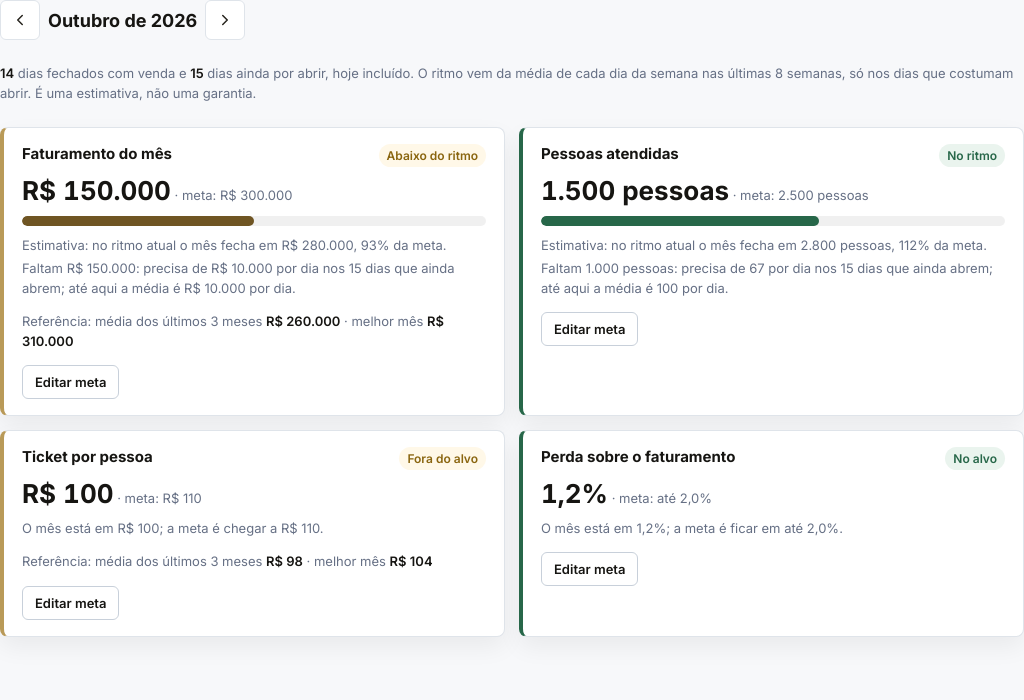
MetasPanel (busca, mes e gravacao) › falha ao gravar mostra o erro no editor, que continua aberto
Expected: the heading "outubro de 2026" is shown, [48, 10, 197, 30]
Click the button "Editar meta" below "Faturamento do mês": (71, 382) [22, 365, 120, 399]
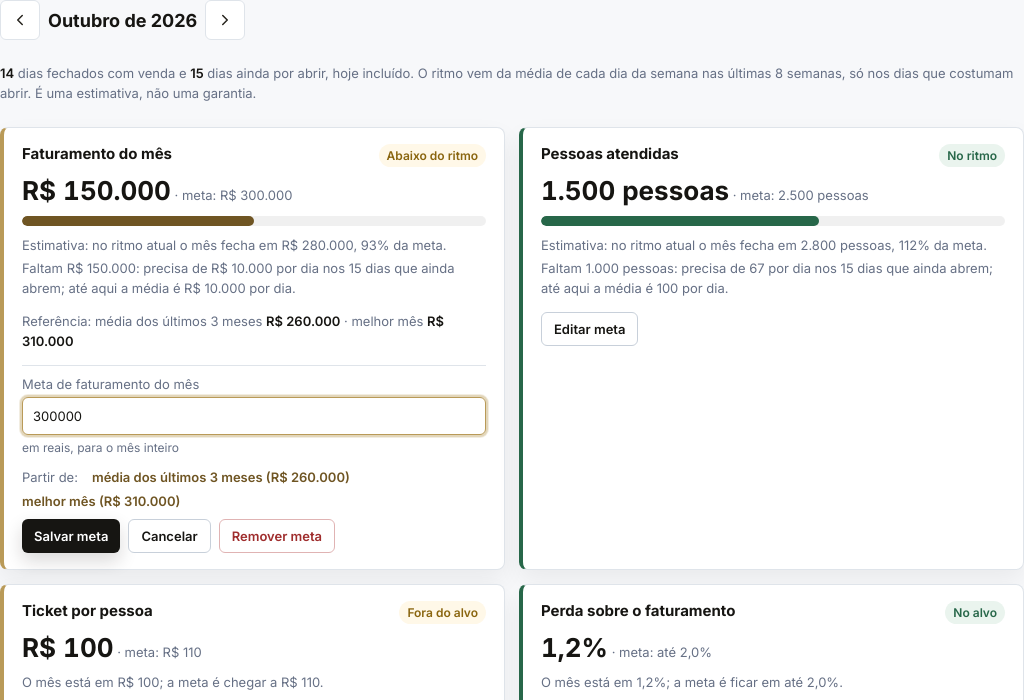
Click the button "Salvar meta": (71, 536) [22, 519, 120, 553]
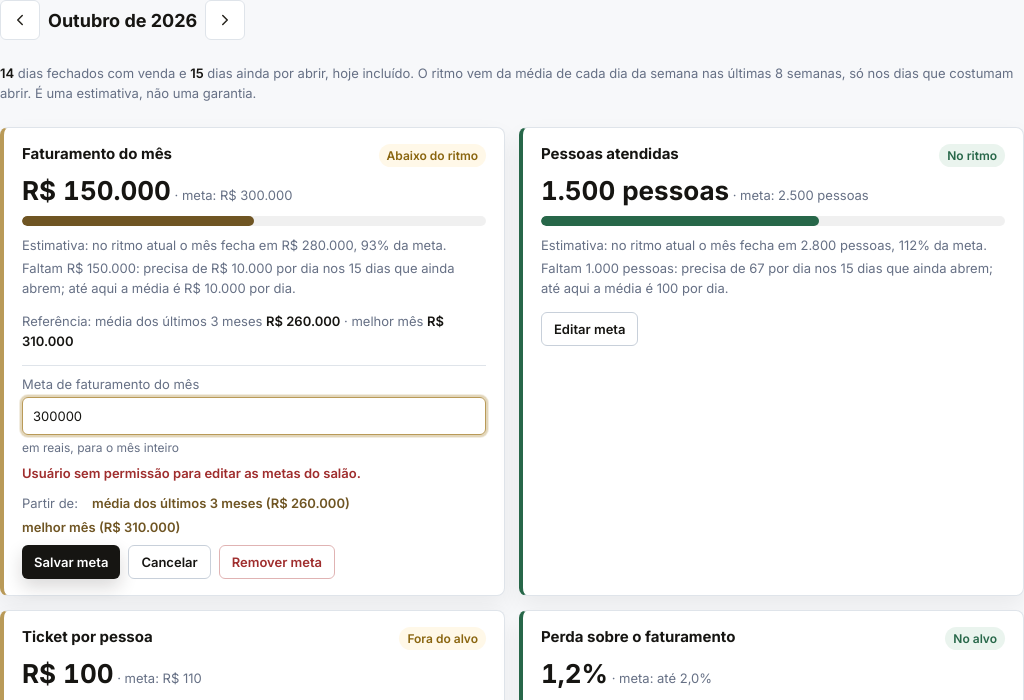
Expected: the button named "Mês anterior" is enabled, [0, 0, 40, 40]
Expected: the message shows "sem permissão para editar", [22, 465, 361, 481]
